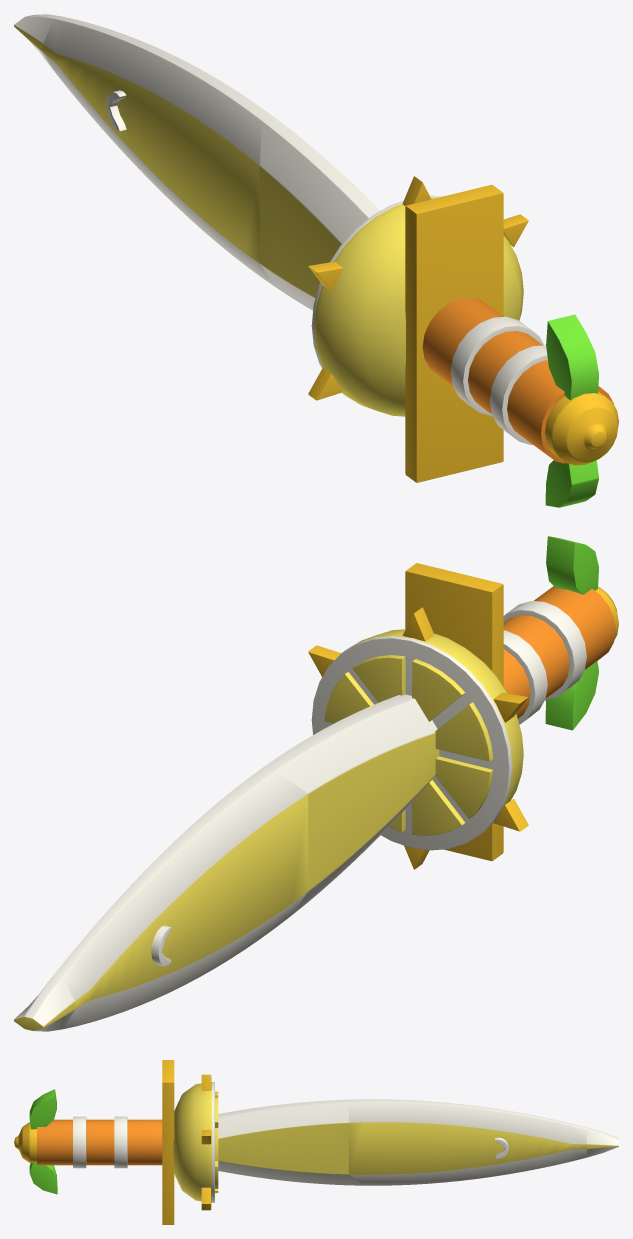
Rendered from Sword_SunsqueezeBlade.glb.
3 renders of one model, top to bottom at view 1: azimuth 30°, elevation 25°; view 2: azimuth 150°, elevation 25°; view 3: azimuth 270°, elevation 25°, orthographic. The views are drawn at different scales.
Visible parts, largest first — view 1: Sword_SunsqueezeBlade; view 2: Sword_SunsqueezeBlade; view 3: Sword_SunsqueezeBlade.
Part boxes in pixels (left/top/right/bottom): Sword_SunsqueezeBlade: left=14, top=14, right=618, bottom=507; Sword_SunsqueezeBlade: left=14, top=536, right=618, bottom=1031; Sword_SunsqueezeBlade: left=14, top=1060, right=618, bottom=1224.
Size of the model in its own units: 0.2145 by 0.26 by 1.
1 material, 1 textured.
